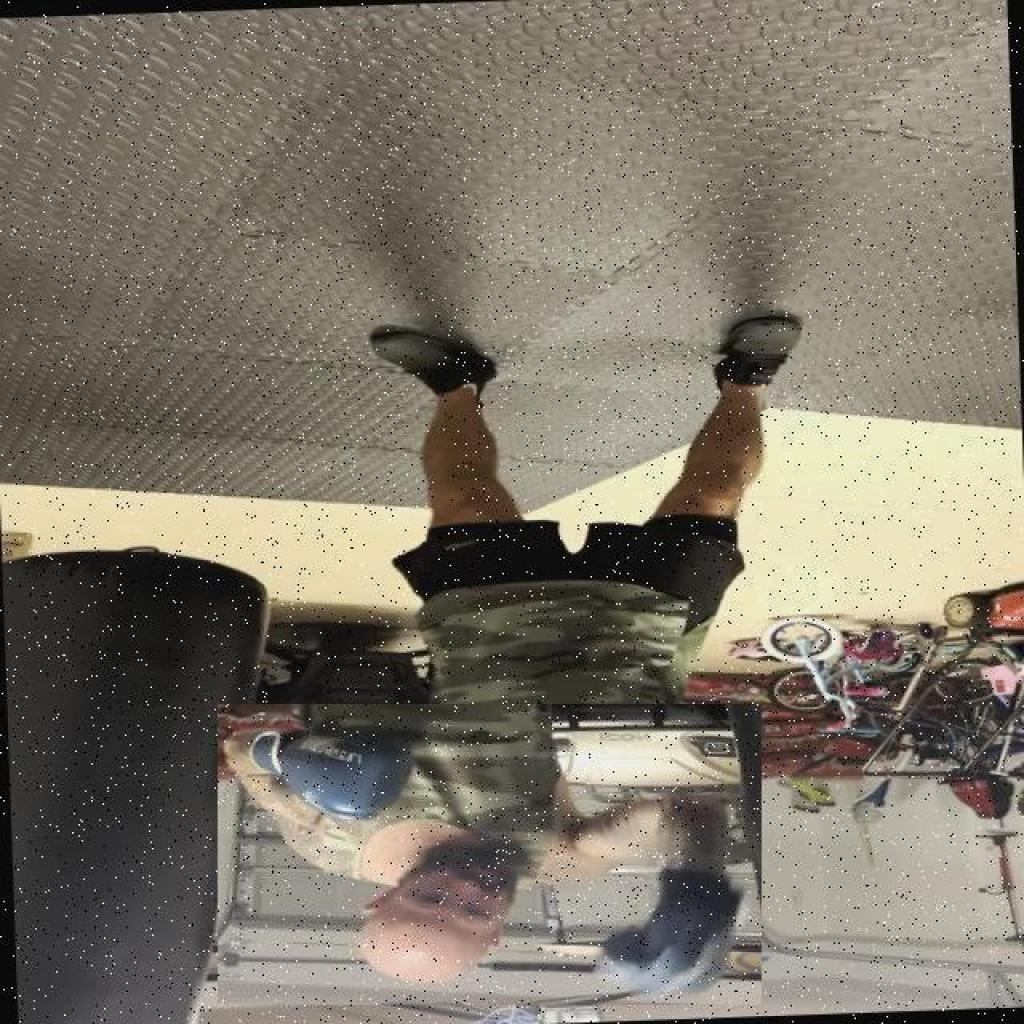bag: (0, 529, 237, 1024)
uppercut: (218, 704, 760, 1005)
